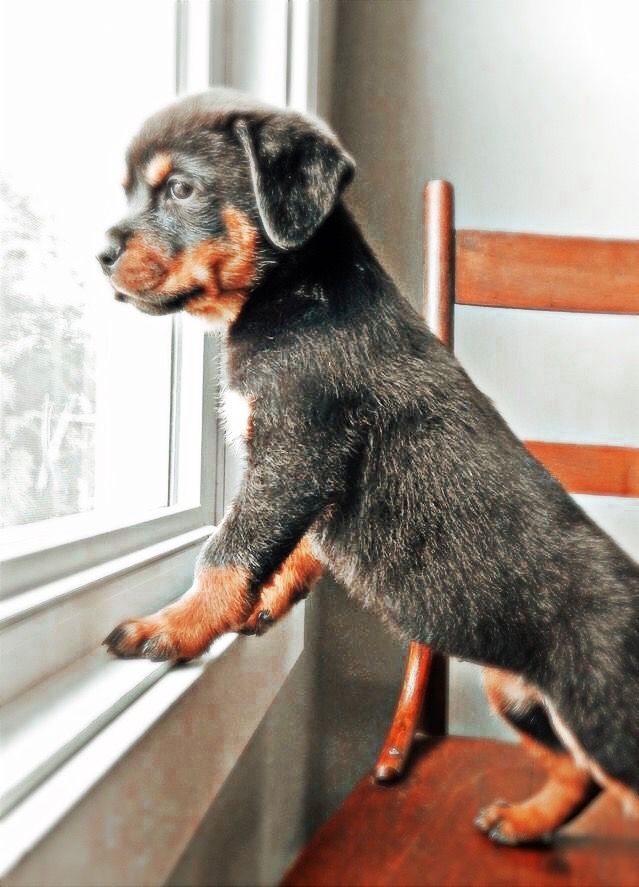dog: (34, 80, 639, 864)
